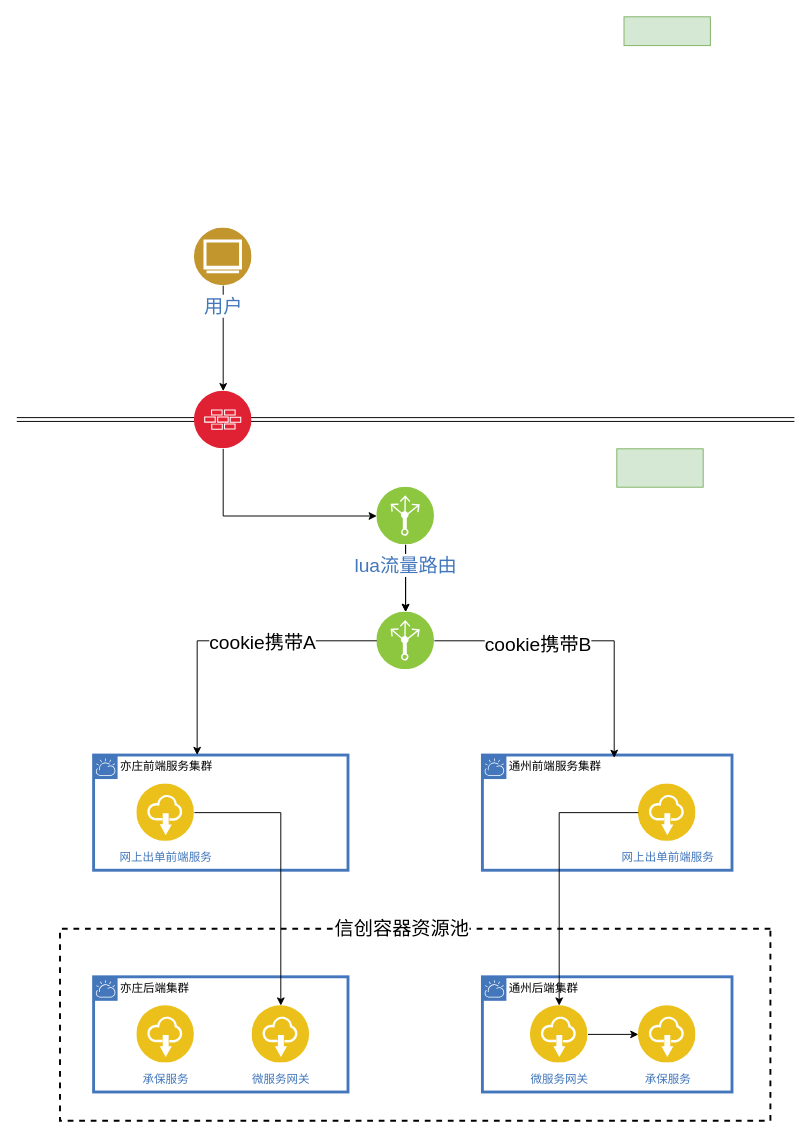
The diagram is 811 pixels wide and 1140 high, and some of its shapes have lost their labels. Each missing label, with the centre of its shape:
内网: (x=659, y=467)
内网防火墙: (x=223, y=419)
办公网: (x=666, y=31)
容器负载: (x=405, y=640)
